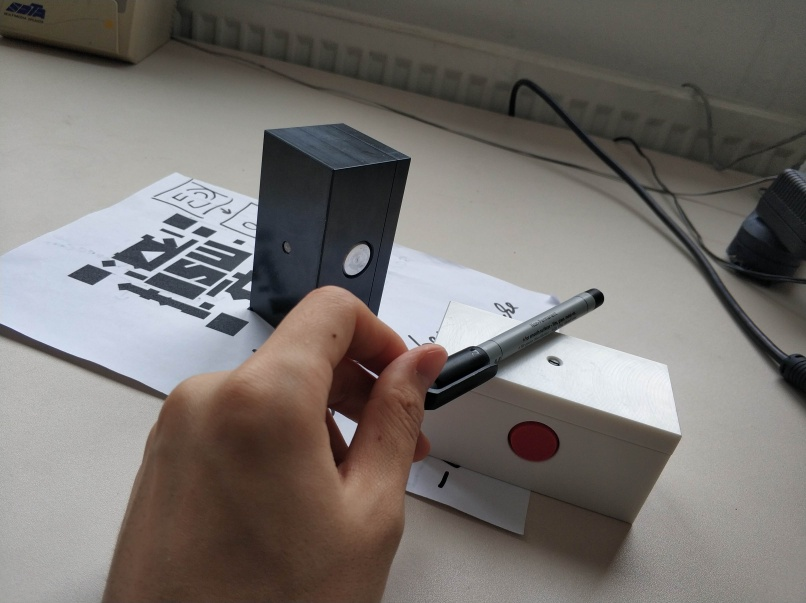black+black+silver: (246, 120, 413, 338)
white+white+red: (423, 298, 686, 529)
